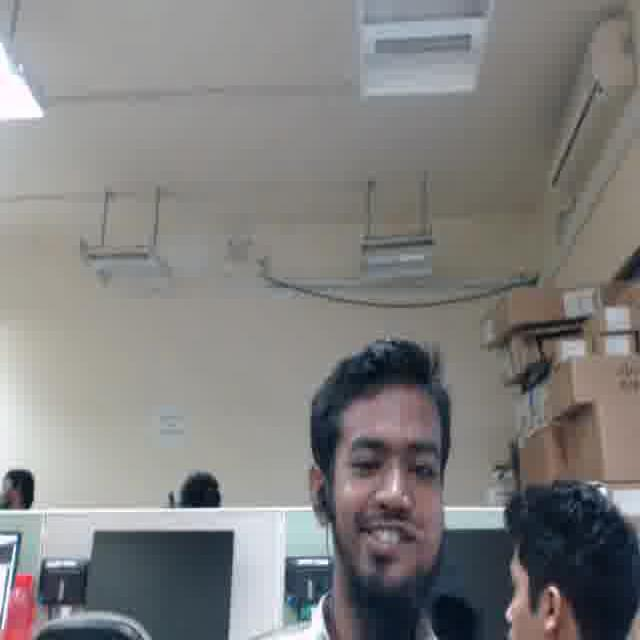Engaged: (331, 392, 445, 588)
